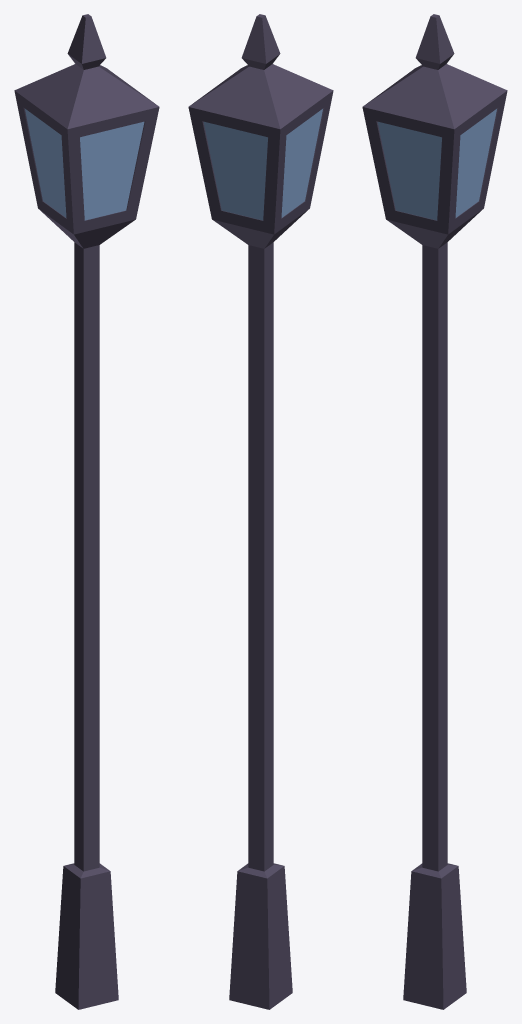
Rendered from farola.fbx.
3 renders of one model, left to right at view 1: azimuth 30°, elevation 25°; view 2: azimuth 150°, elevation 25°; view 3: azimuth 330°, elevation 25°, orthographic.
Parts seen in each view (by area): view 1: PublicBuilding_Light; view 2: PublicBuilding_Light; view 3: PublicBuilding_Light.
Boxes of the visible parts, box(x1,y1,x2,y2) form: PublicBuilding_Light: box(14, 14, 159, 1009); PublicBuilding_Light: box(188, 14, 333, 1009); PublicBuilding_Light: box(362, 14, 507, 1009).
Bounding box in the file's own units: 8.04 × 81.88 × 8.04.
